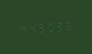eight: (63, 18, 71, 32)
four: (17, 21, 25, 35), (26, 21, 34, 34)
three: (36, 20, 44, 34), (54, 19, 62, 32)
zero: (45, 20, 53, 33)
